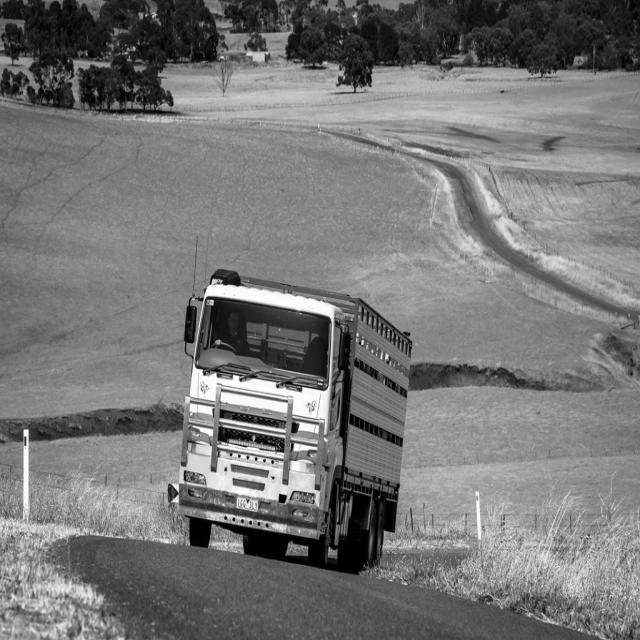truck: (158, 263, 370, 557)
